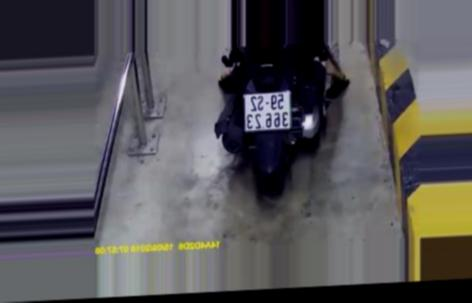License_Plate: (239, 88, 296, 136)
